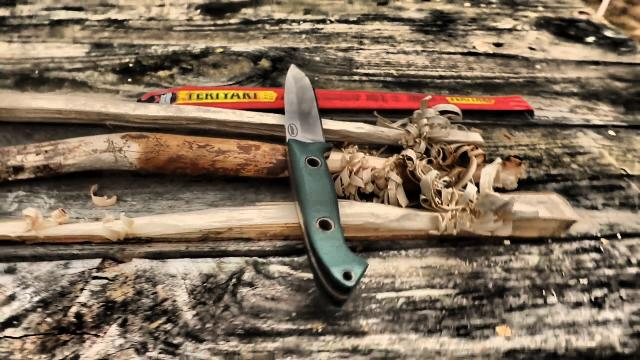knife: (278, 54, 344, 190)
